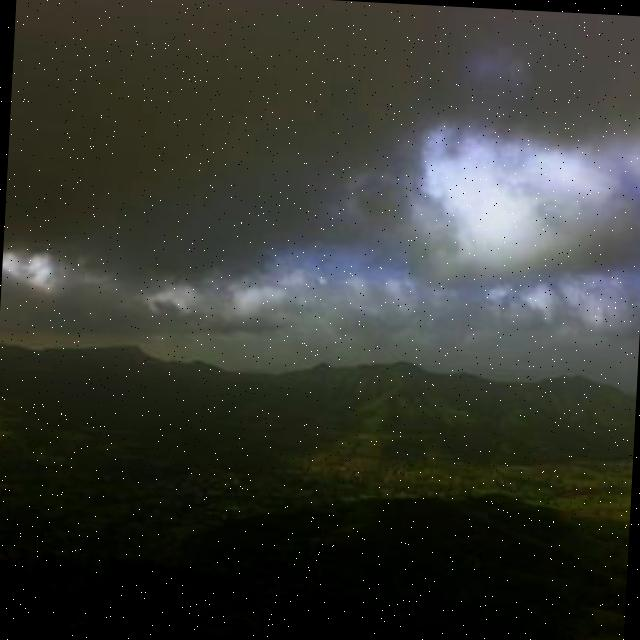Ns: (1, 1, 640, 363)
